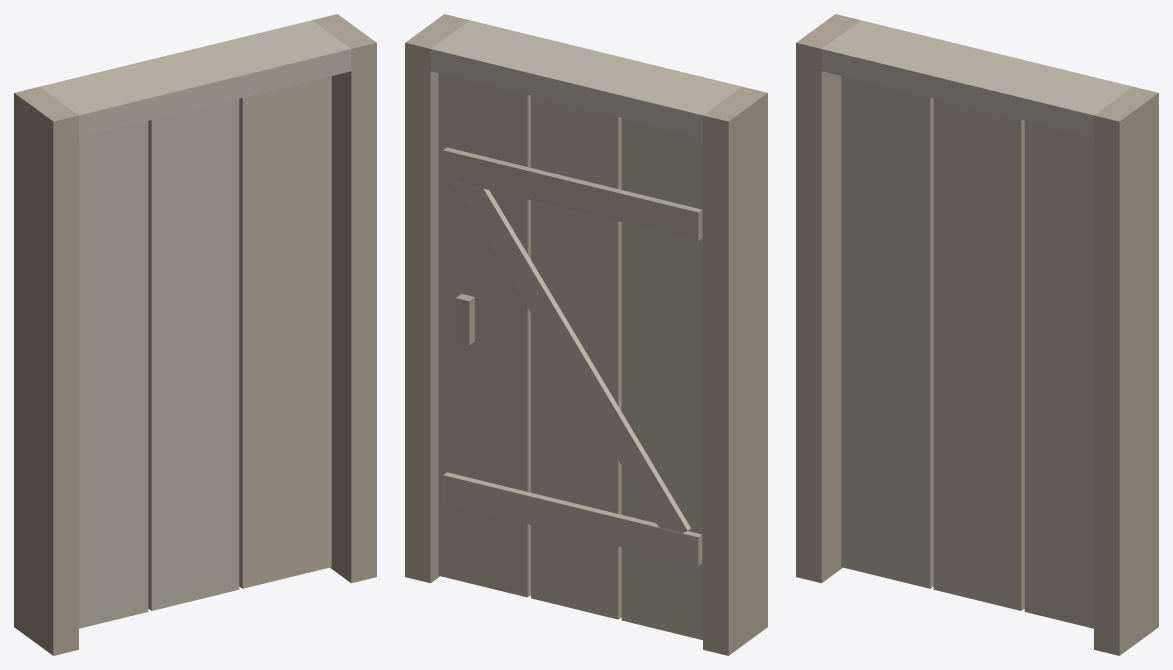
Rendered from Door.glb.
3 views of the same model, side by side, from view 1: azimuth 30°, elevation 25°; view 2: azimuth 150°, elevation 25°; view 3: azimuth 330°, elevation 25° (orthographic).
Visible parts, largest first — view 1: Door, Wood; view 2: Door, Wood; view 3: Door, Wood.
Boxes of the visible parts, x1,y1,x2,y2 form: Door: (79,76,331,628); Wood: (14,14,376,655); Door: (438,73,702,640); Wood: (405,14,767,655); Door: (841,76,1093,628); Wood: (796,14,1158,655).
Size of the model in its own units: 3.8 by 6 by 0.8.
